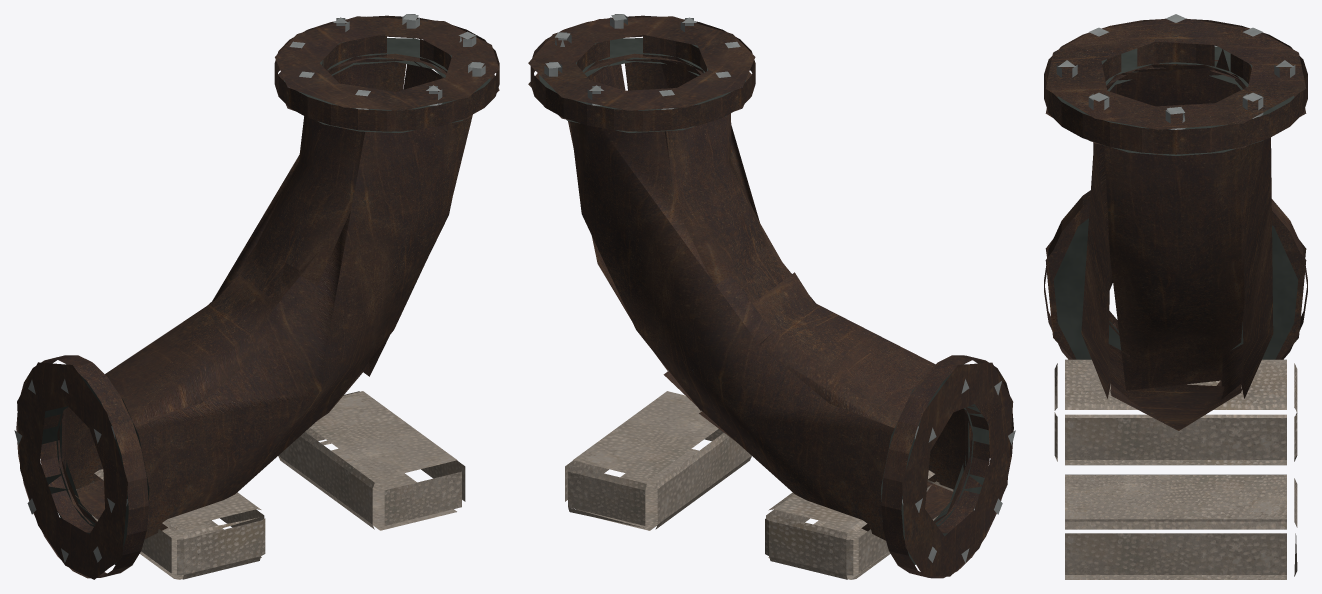
Rendered from lod2_NOT_APPROVED.glb.
The picture shows the model from 3 angles, left to right: view 1: azimuth 30°, elevation 25°; view 2: azimuth 150°, elevation 25°; view 3: azimuth 270°, elevation 25°; orthographic projection. The views are drawn at different scales.
Visible parts, largest first — view 1: f3_oxidized_iron_surface, f3_weathered_concrete_surface, f3_aged_rubber_surface, f3_bare_worn_steel_surface; view 2: f3_oxidized_iron_surface, f3_weathered_concrete_surface, f3_aged_rubber_surface, f3_bare_worn_steel_surface; view 3: f3_oxidized_iron_surface, f3_weathered_concrete_surface, f3_aged_rubber_surface, f3_bare_worn_steel_surface.
Boxes of the visible parts, x1,y1,x2,y2 form: f3_oxidized_iron_surface: (16, 15, 499, 579); f3_weathered_concrete_surface: (76, 391, 465, 579); f3_aged_rubber_surface: (42, 38, 490, 566); f3_bare_worn_steel_surface: (14, 14, 485, 563); f3_oxidized_iron_surface: (528, 15, 1013, 578); f3_weathered_concrete_surface: (565, 391, 953, 579); f3_aged_rubber_surface: (539, 38, 989, 564); f3_bare_worn_steel_surface: (544, 14, 1015, 562); f3_oxidized_iron_surface: (1044, 18, 1307, 430); f3_weathered_concrete_surface: (1054, 359, 1297, 579); f3_aged_rubber_surface: (1053, 46, 1298, 359); f3_bare_worn_steel_surface: (1056, 14, 1295, 129).
Bounding box in the file's own units: 1.36 × 1.36 × 0.63.
Materials: 4 (4 with a texture image).
